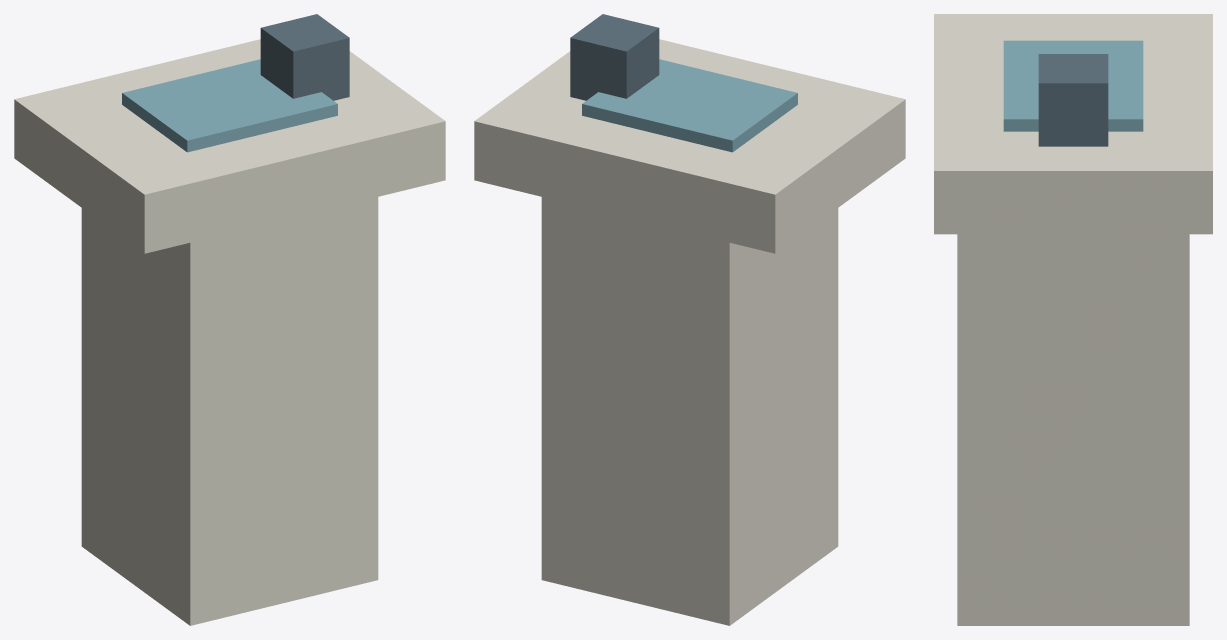
File: voxel-city-districts-drinking-fountain-78df86e8__24856.glb
3 views of the same model, side by side, from view 1: azimuth 30°, elevation 25°; view 2: azimuth 150°, elevation 25°; view 3: azimuth 270°, elevation 25° (orthographic). The views are drawn at different scales.
Visible parts, largest first — view 1: drinking-fountain-concrete, drinking-fountain-glass, drinking-fountain-dark; view 2: drinking-fountain-concrete, drinking-fountain-glass, drinking-fountain-dark; view 3: drinking-fountain-concrete, drinking-fountain-glass, drinking-fountain-dark.
Part boxes in pixels (x1,y1,x2,y2): drinking-fountain-concrete: (14, 39, 445, 625); drinking-fountain-glass: (122, 59, 337, 152); drinking-fountain-dark: (260, 14, 349, 100); drinking-fountain-concrete: (474, 39, 905, 625); drinking-fountain-glass: (582, 59, 797, 152); drinking-fountain-dark: (570, 14, 659, 100); drinking-fountain-concrete: (934, 14, 1212, 625); drinking-fountain-glass: (1003, 40, 1143, 131); drinking-fountain-dark: (1038, 54, 1108, 146).
Size of the model in its own units: 0.8 by 1.3 by 0.6001.
